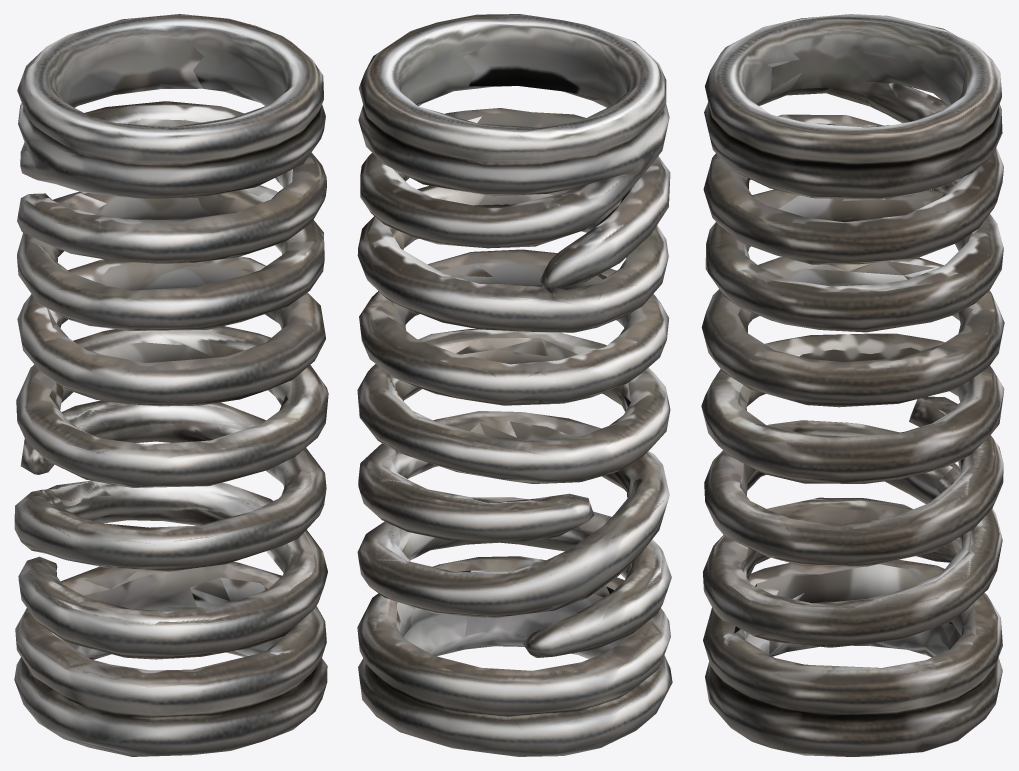
File: Item_001.fbx
3 views of the same model, side by side, from view 1: azimuth 30°, elevation 25°; view 2: azimuth 150°, elevation 25°; view 3: azimuth 270°, elevation 25° (orthographic).
Parts seen in each view (by area): view 1: material_0; view 2: material_0; view 3: material_0.
Part boxes in pixels (left/top/right/bottom): material_0: left=14, top=14, right=328, bottom=756; material_0: left=357, top=14, right=672, bottom=756; material_0: left=701, top=14, right=1004, bottom=756.
Bounding box in the file's own units: 44.87 × 100 × 43.76.
Materials: 1 (1 with a texture image).
